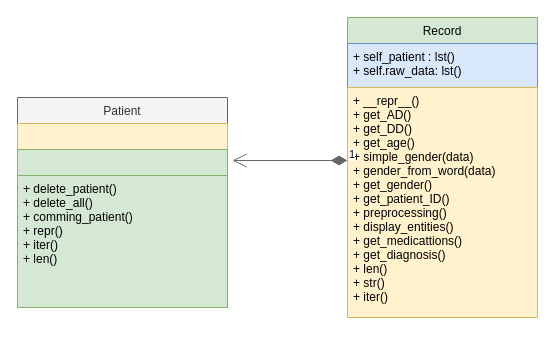
Image size: 555x338. Some labels were removed from this diagram. The centre of each missing label's shape, as x and y in pixels:
"+ add_patient()" goes at point (122, 162).
"+ self.queue: LinkedQueue()" goes at point (122, 136).
